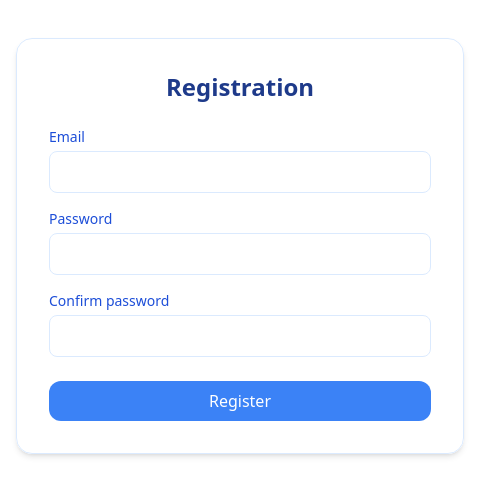
Test: show invalid email error
Type "example" into the field labelled "Email" at (240, 172), box [49,151,431,193]
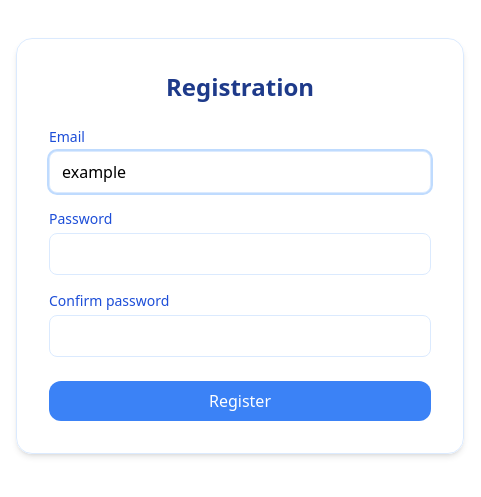
Click the button "Register" at (240, 401), box [49,381,431,421]
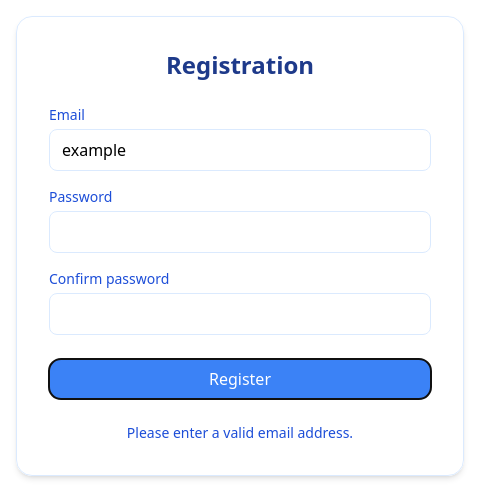
Expected: the text "Please enter a valid email address." is shown, [127,423,353,442]
